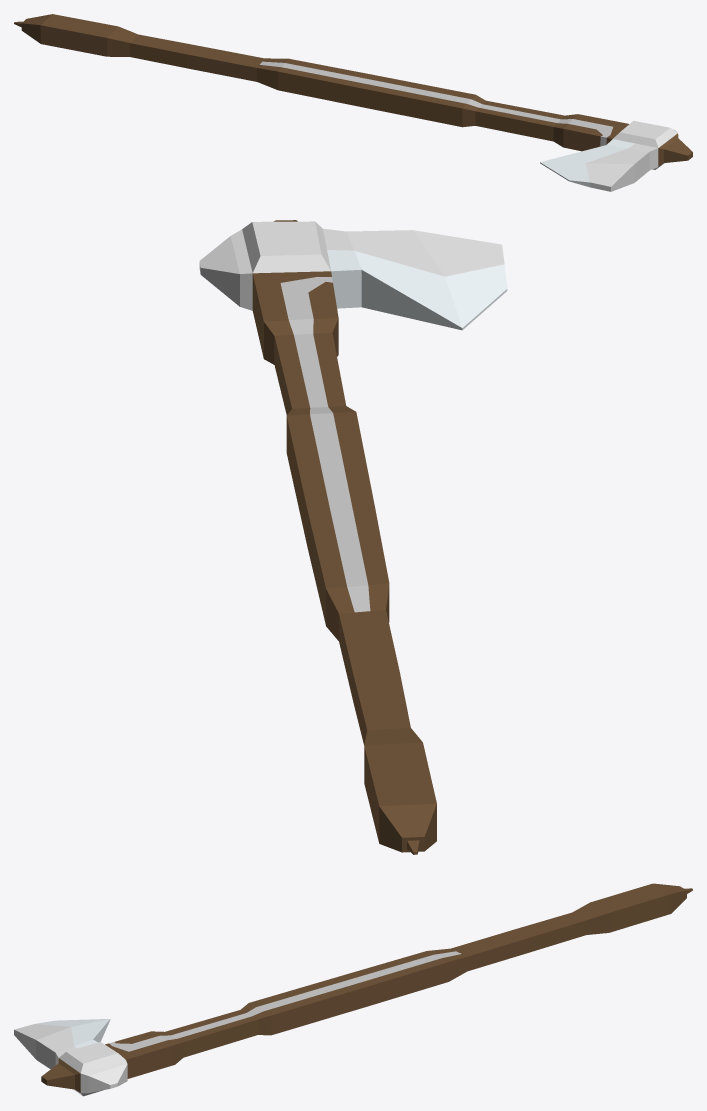
Rendered from Machado.fbx.
3 renders of one model, top to bottom at view 1: azimuth 30°, elevation 25°; view 2: azimuth 150°, elevation 25°; view 3: azimuth 270°, elevation 25°, orthographic. The views are drawn at different scales.
Parts seen in each view (by area): view 1: Cube; view 2: Cube; view 3: Cube.
Boxes of the visible parts, box(x1,y1,x2,y2) form: Cube: box(14, 14, 692, 191); Cube: box(199, 220, 507, 854); Cube: box(14, 883, 692, 1096).
Size of the model in its own units: 401 by 30.81 by 580.
